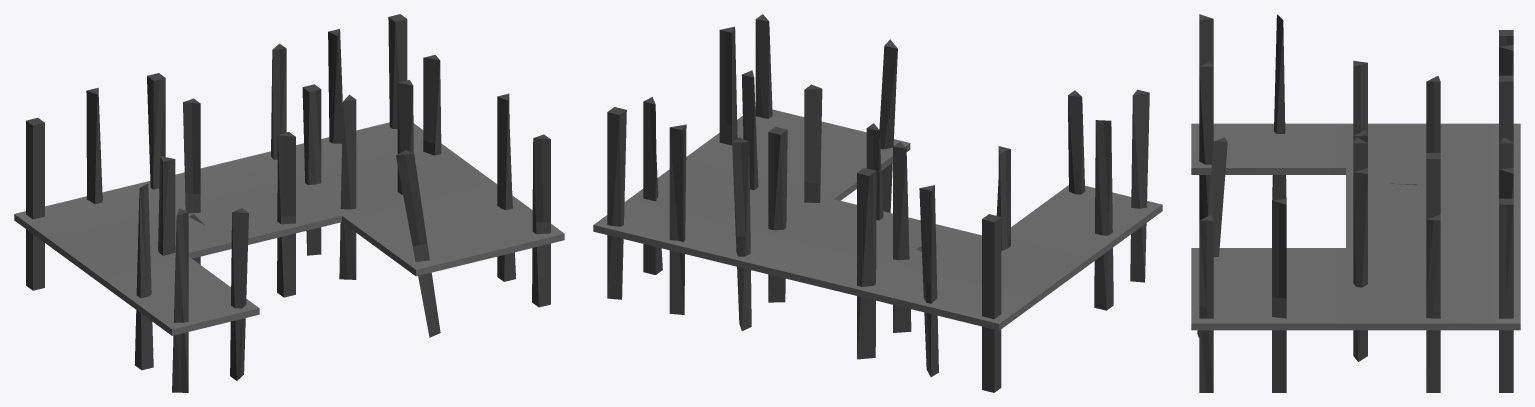
File: ruin_building.glb
3 renders of one model, left to right at view 1: azimuth 30°, elevation 25°; view 2: azimuth 150°, elevation 25°; view 3: azimuth 270°, elevation 25°, orthographic. The views are drawn at different scales.
Parts seen in each view (by area): view 1: ruin_building_6_atlass_1_0; view 2: ruin_building_6_atlass_1_0; view 3: ruin_building_6_atlass_1_0.
Boxes of the visible parts, box(x1,y1,x2,y2) form: ruin_building_6_atlass_1_0: box(14, 14, 564, 392); ruin_building_6_atlass_1_0: box(593, 14, 1162, 392); ruin_building_6_atlass_1_0: box(1191, 14, 1520, 392).
Size of the model in its own units: 24.41 by 10.87 by 16.99.
1 material, 1 textured.
